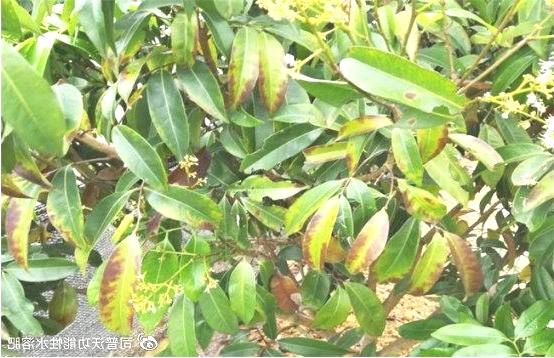Anthracnose: (306, 168, 478, 298), (4, 131, 108, 266), (220, 37, 318, 120), (133, 147, 217, 228), (444, 46, 516, 123), (347, 80, 429, 145), (101, 239, 177, 309), (252, 242, 293, 317)
